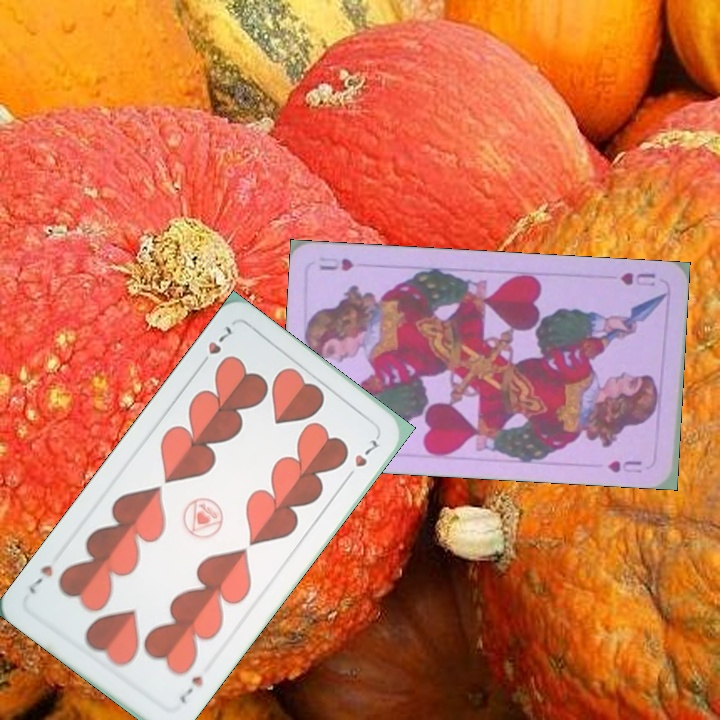H7: (194, 321, 237, 371), (174, 671, 206, 706)
HU: (616, 268, 658, 289)
